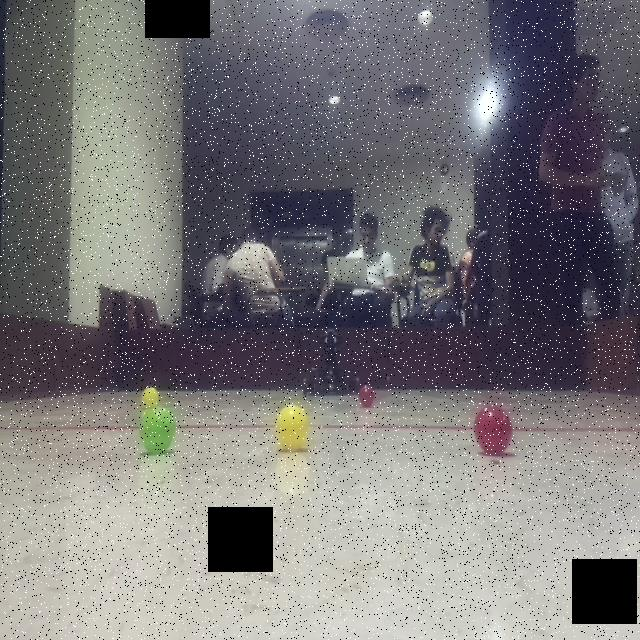ball: (473, 401, 515, 456), (272, 399, 315, 452), (140, 409, 179, 452), (354, 380, 379, 408), (138, 384, 164, 410)
